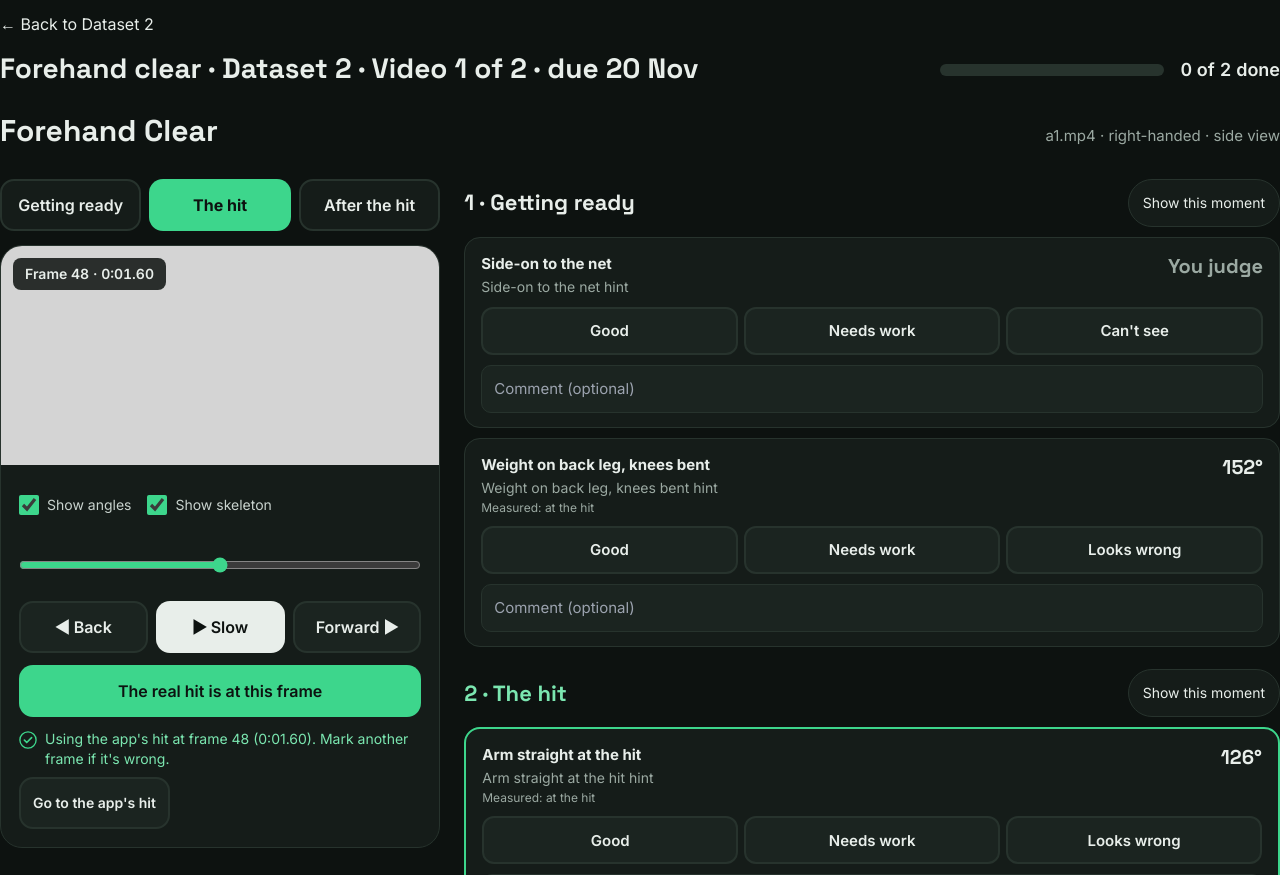
Scenario: LabellingWorkspace › saves the overall section and moves to the next clip
Expected: the tab "The hit" is shown, [149, 178, 291, 230]
Step 1. Click the button "Forward ▶" → (357, 627), box [292, 601, 421, 653]
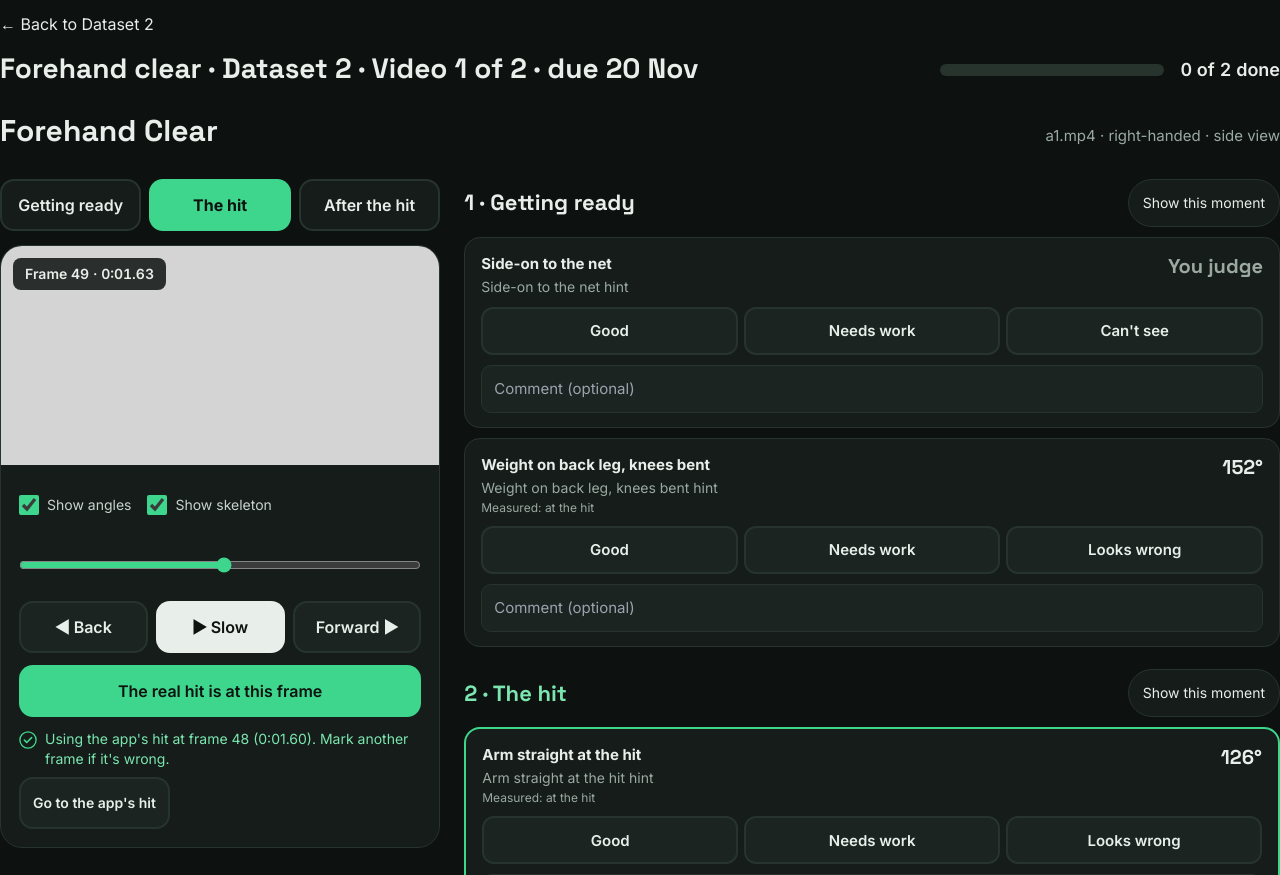
Step 2. Click the button "The real hit is at this frame" → (220, 691), box [19, 665, 421, 717]
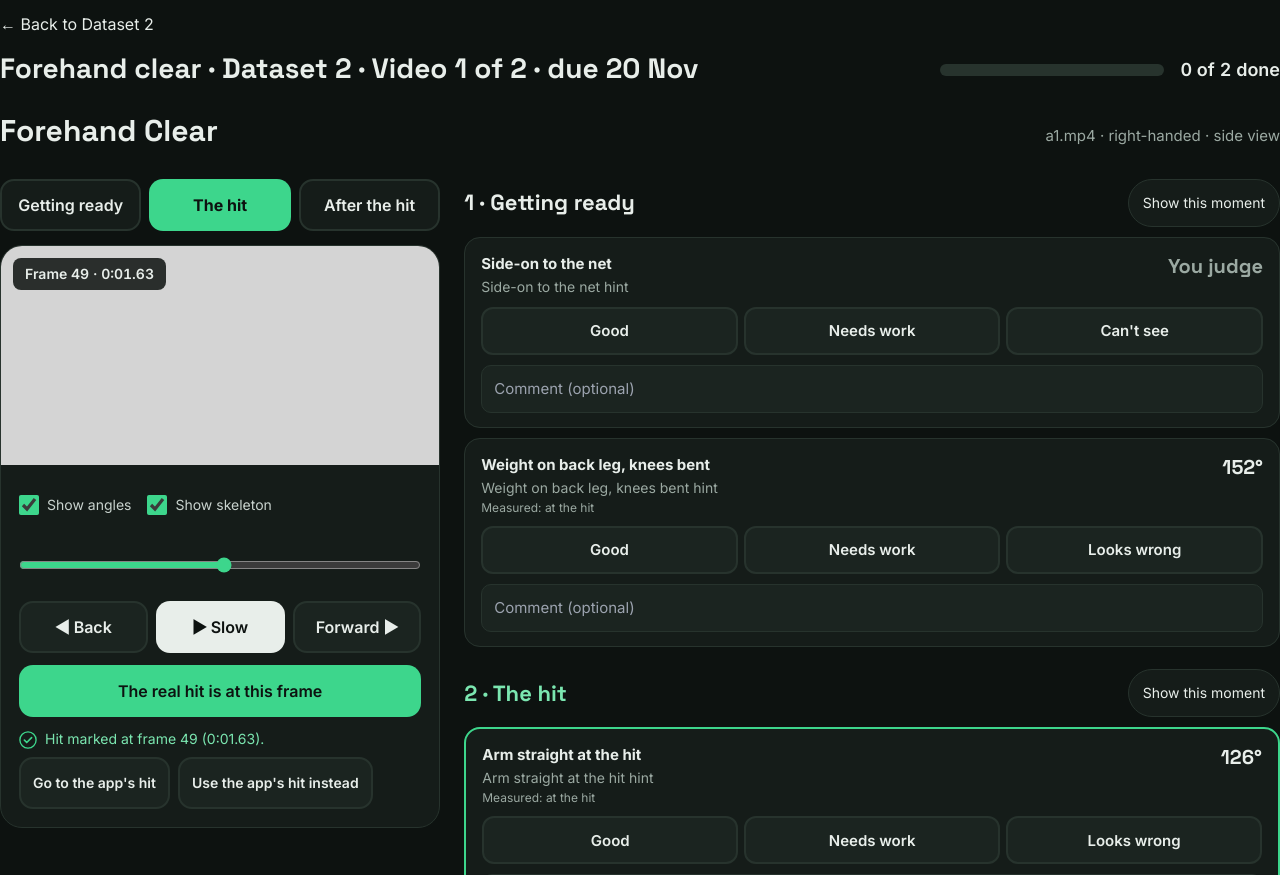
Step 3. Click the radio button labelled "Needs work" below "Arm straight at the hit hint" → (872, 840), box [744, 816, 1000, 864]
(page scrolled)
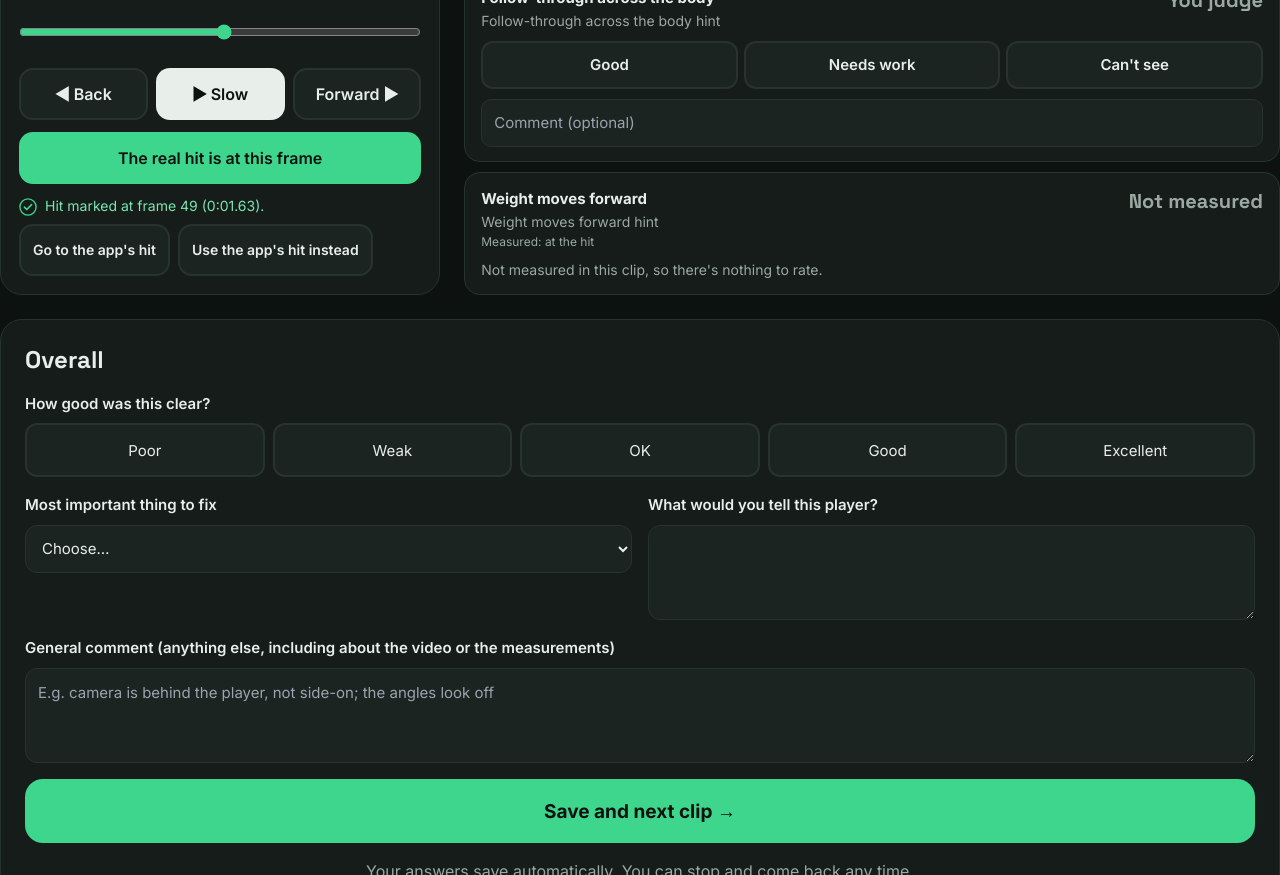
Step 4. Click the radio button labelled "OK" → (640, 450), box [520, 423, 760, 477]
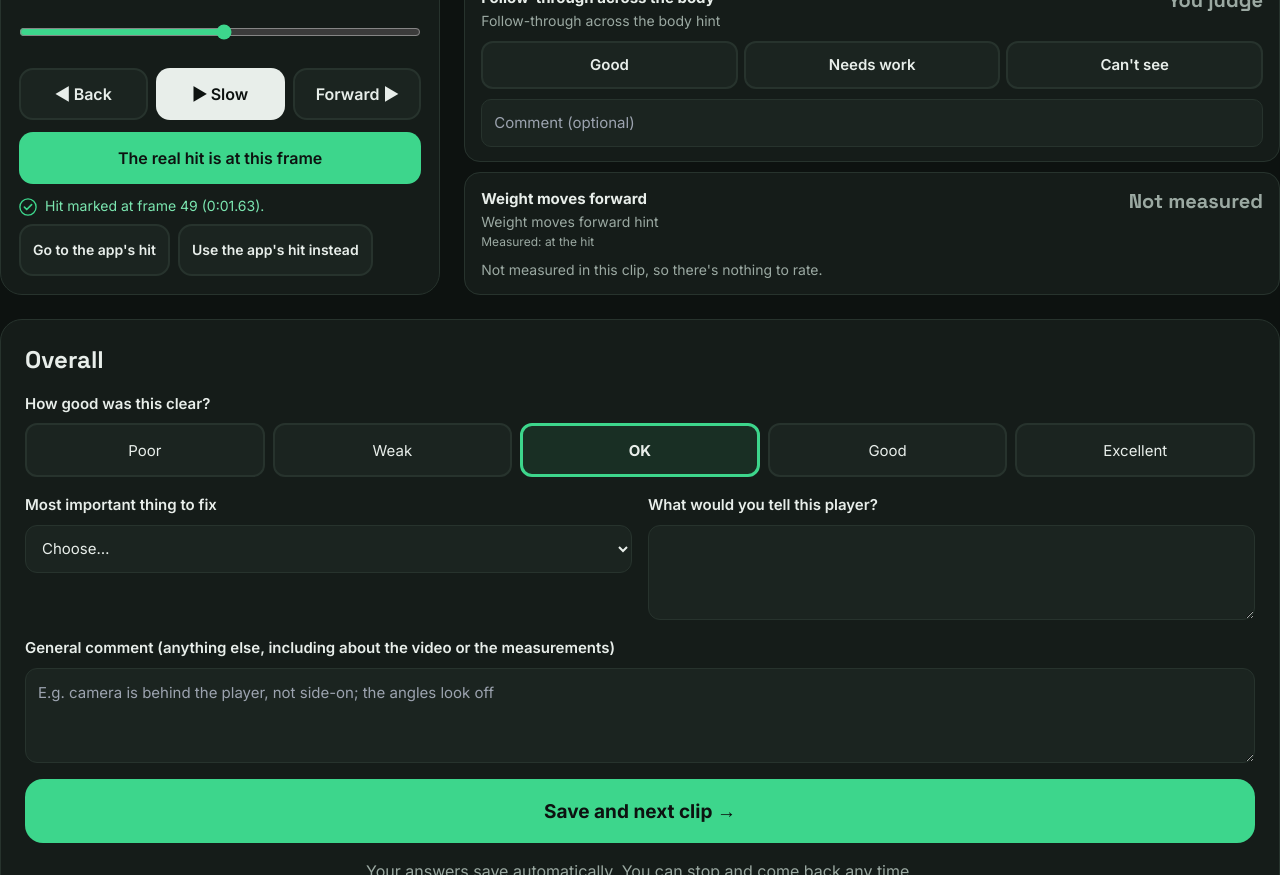
Step 5. Select "Arm straight at the hit" in the dropdown labelled "Most important thing to fix" → (328, 548), box [25, 524, 632, 572]
Step 6. Type "Reach up at the hit." into the text box labelled "What would you tell this player?" → (952, 572), box [648, 524, 1255, 620]
Step 7. Replace the text in the text box labelled "General comment" with "Camera a bit far." → (640, 715), box [25, 668, 1255, 763]
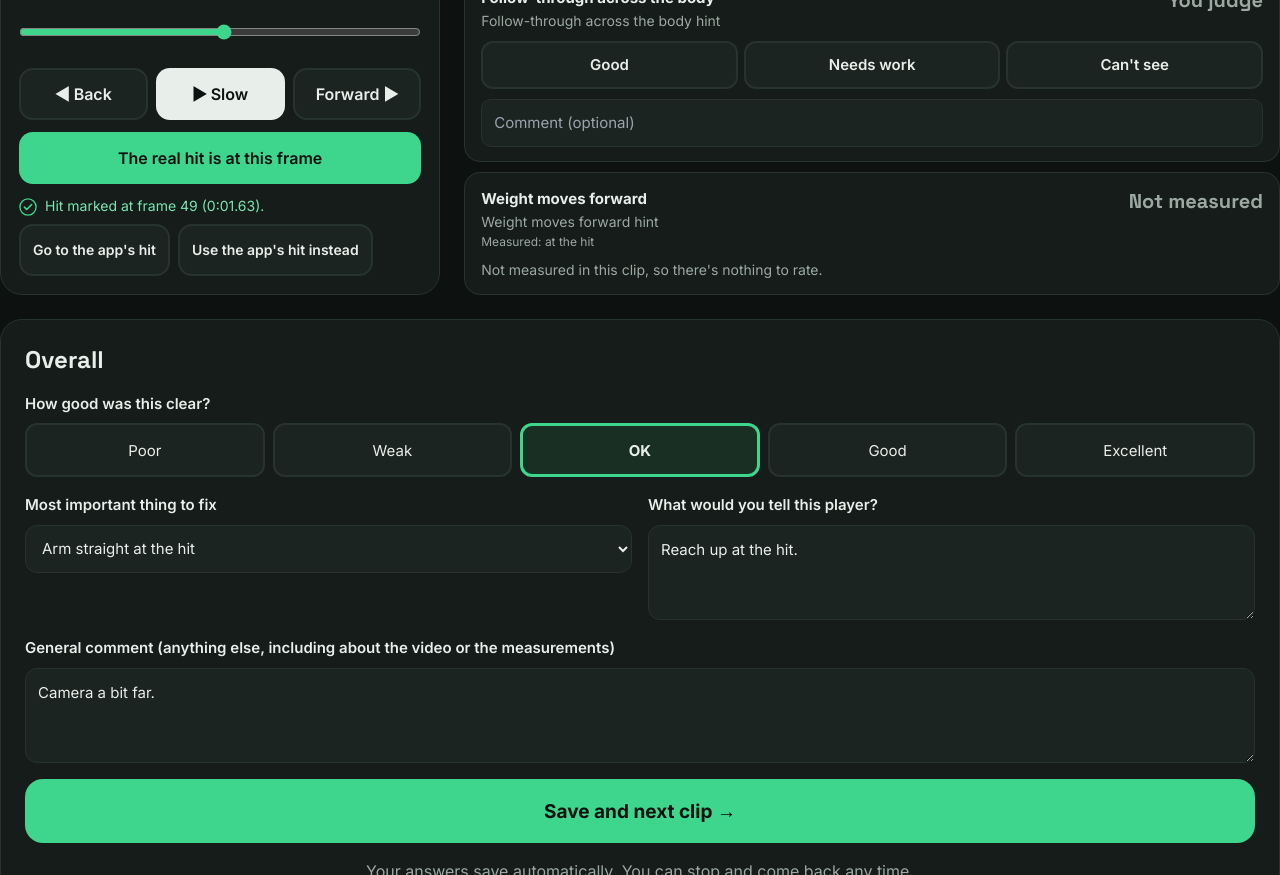
Step 8. Click the button "Save and next clip →" → (640, 811), box [25, 779, 1255, 843]
(page scrolled)
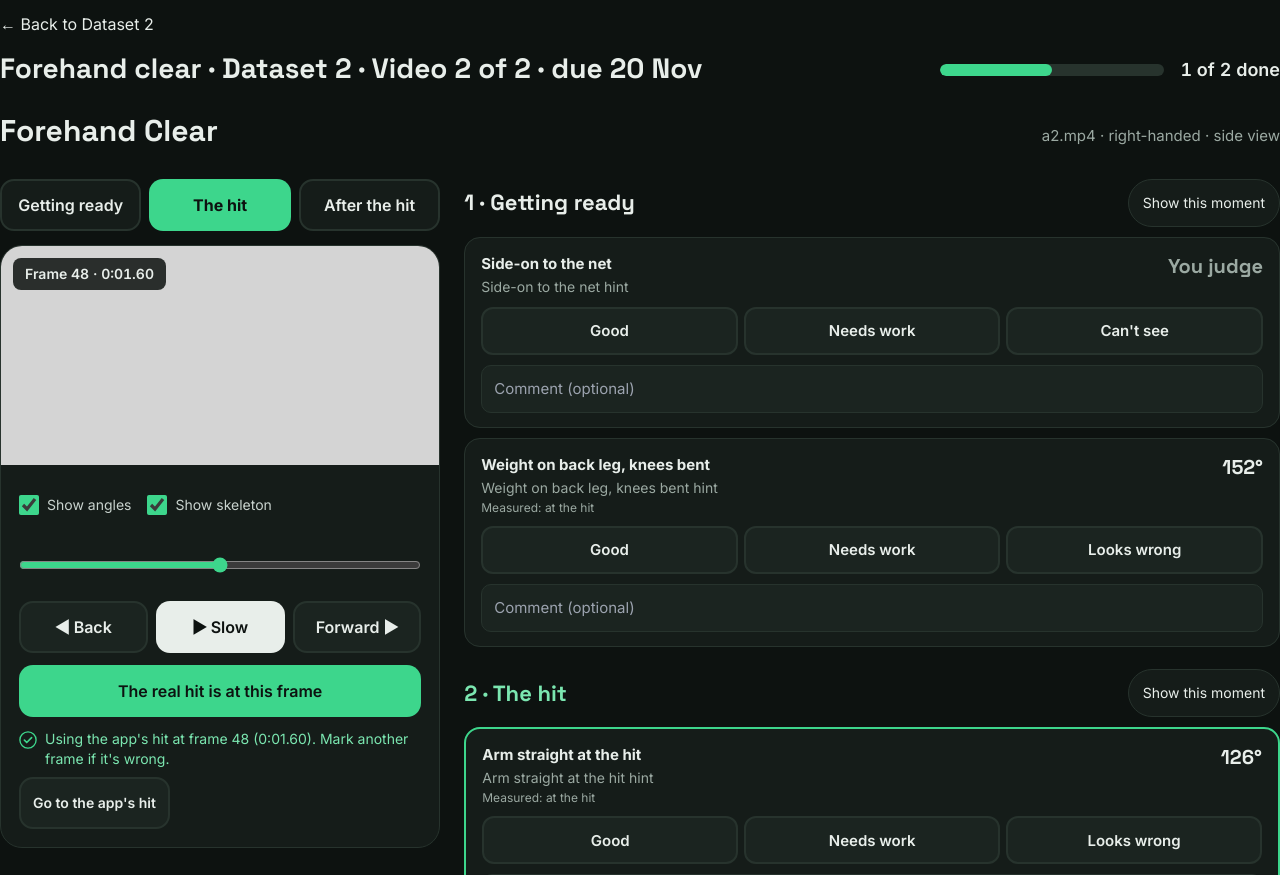
Expected: the heading "Forehand clear · Dataset 2 · Video 2 of 2 · due 20 Nov" is shown, [0, 52, 702, 84]
